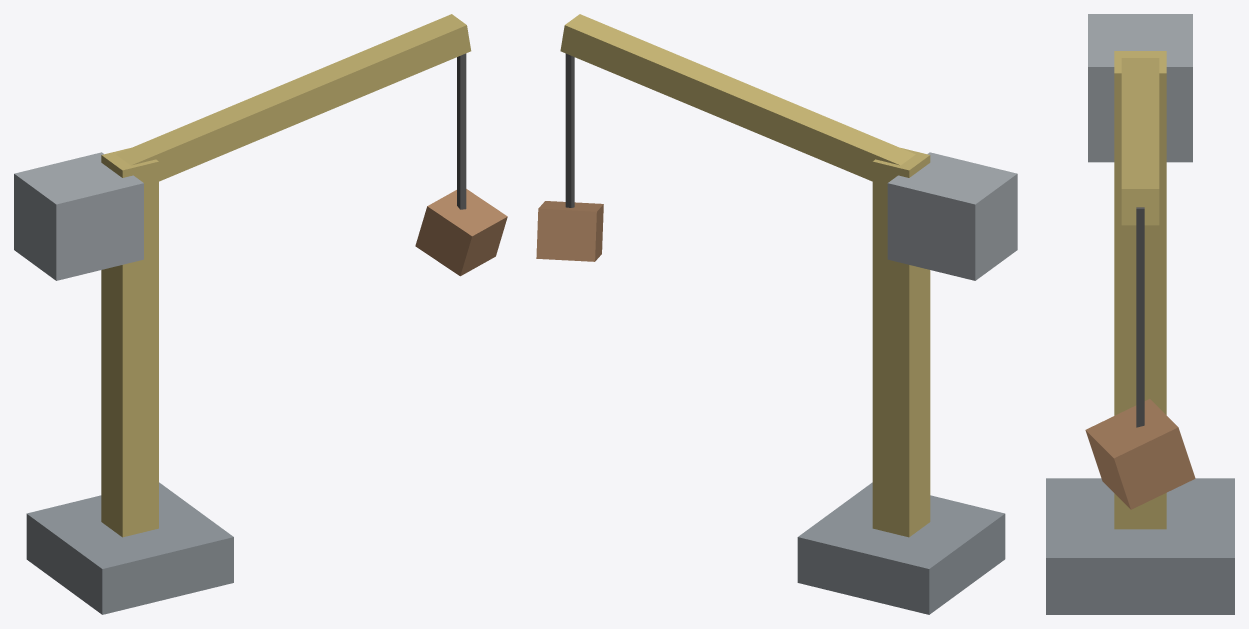
The model's file is valak_guindaste_0.glb.
3 renders of one model, left to right at view 1: azimuth 30°, elevation 25°; view 2: azimuth 150°, elevation 25°; view 3: azimuth 270°, elevation 25°, orthographic. The views are drawn at different scales.
Visible parts, largest first — view 1: guindaste; view 2: guindaste; view 3: guindaste.
Boxes of the visible parts, x1,y1,x2,y2 form: guindaste: (14, 14, 507, 614); guindaste: (536, 14, 1017, 614); guindaste: (1046, 14, 1234, 614).
Bounding box in the file's own units: 3.16 × 3.08 × 0.9.
